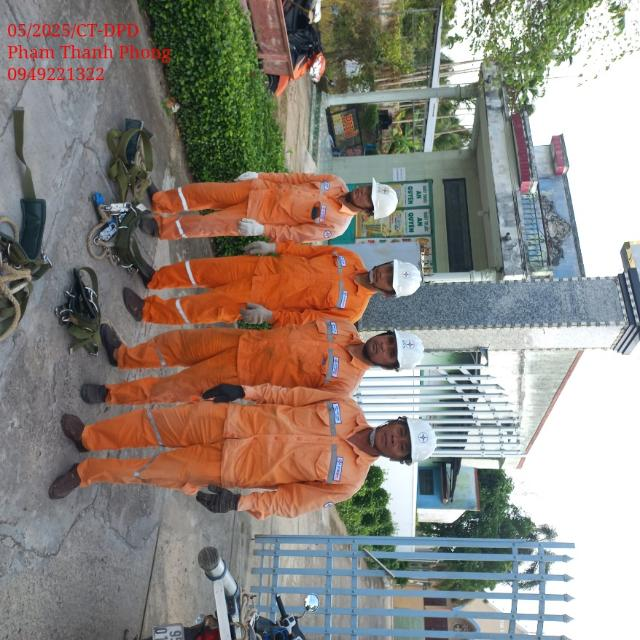gloves: (199, 379, 253, 414), (195, 485, 248, 518), (238, 299, 274, 330), (232, 159, 266, 191), (232, 217, 266, 239), (243, 236, 277, 257)
helmet: (387, 407, 451, 466), (390, 323, 432, 373), (372, 169, 406, 226), (388, 251, 424, 296)
shoes: (45, 467, 105, 503), (76, 369, 117, 411), (54, 415, 103, 450), (98, 323, 134, 368), (127, 207, 172, 240), (119, 283, 152, 322), (135, 169, 169, 204), (128, 254, 161, 286)
